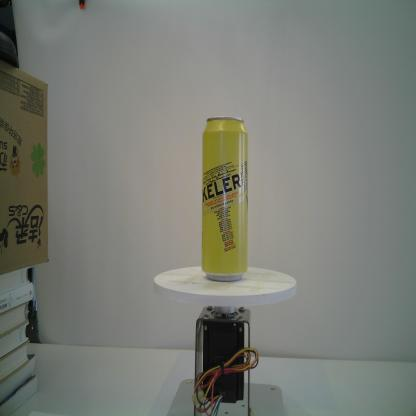Alcohol: (202, 115, 249, 283)
